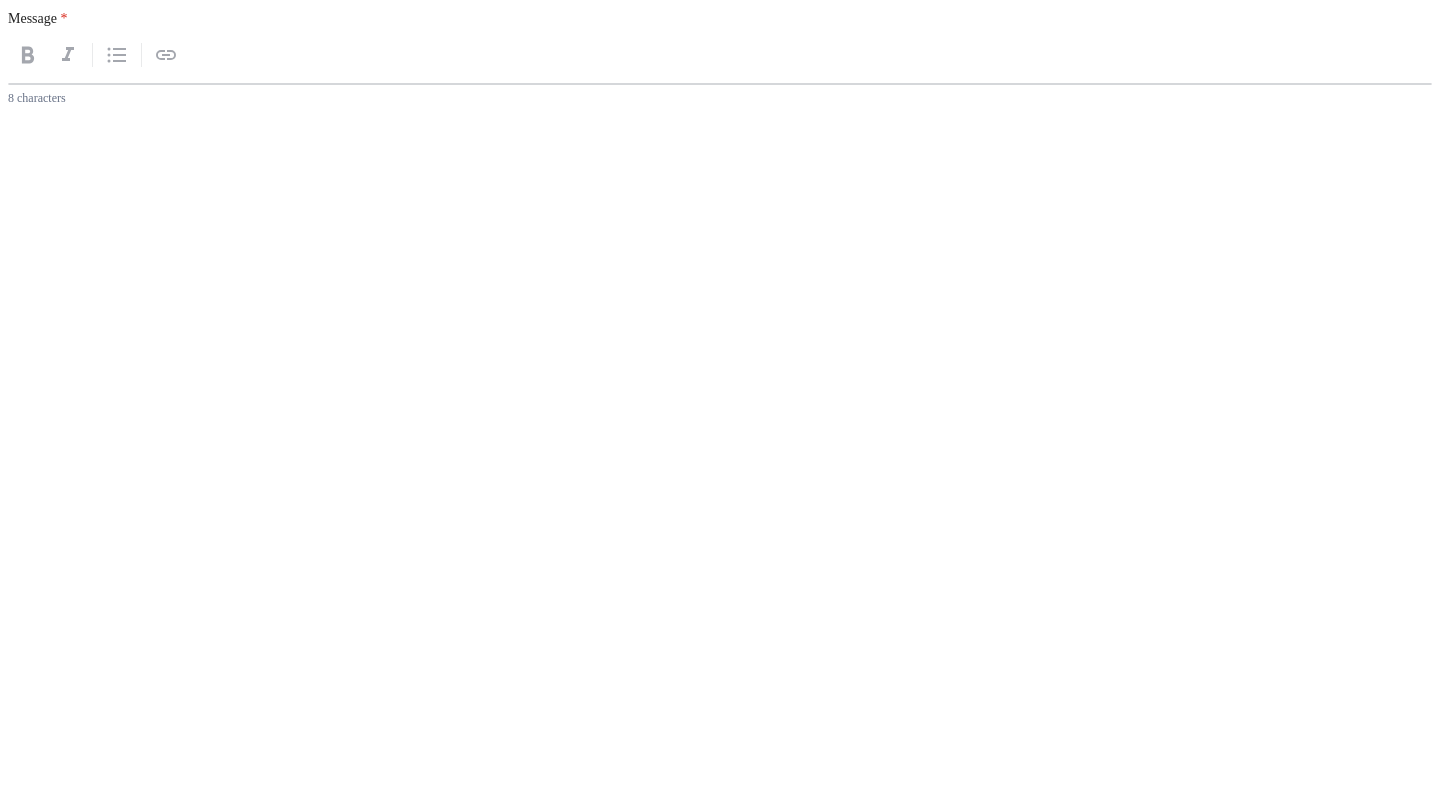
it: a field assembled from parts › gives the link popover somewhere to mount
Click the button named "Link".
click(166, 55)  # box [146,35,186,75]
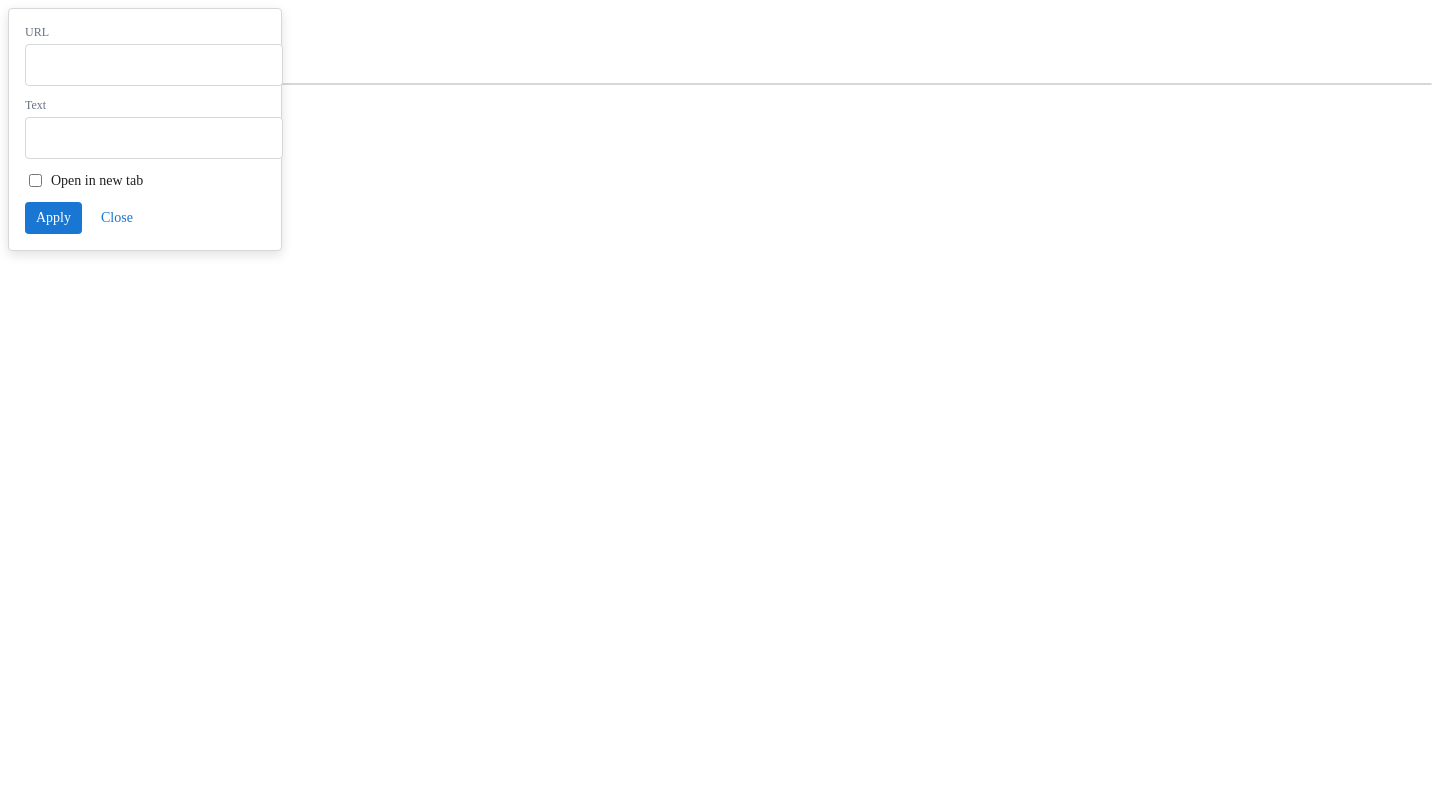
Now the dialog named "Link" is shown, box [8,8,282,251]
